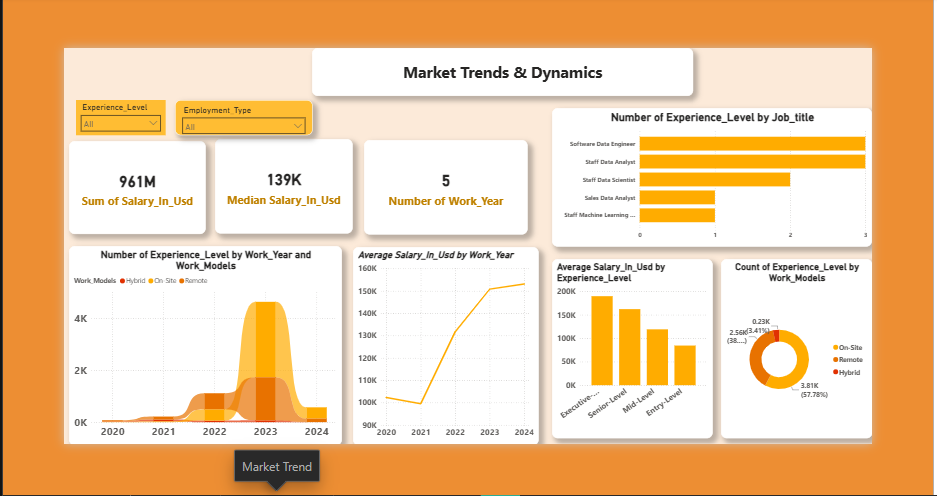

The page's visual inventory and layout, read from the dashboard file:
{"tool":"powerbi","page":{"name":"Market Trend","canvas":[1650,810],"ordinal":1},"visuals":[{"type":"lineChart","title":"Average Salary_In_Usd by Work_Year","fields":{"Category":["data_science_salaries.Work_Year"],"Y":["Avg(data_science_salaries.Salary_In_Usd)"]},"box":[589.7,405.2,379.3,405.2],"z":0},{"type":"clusteredColumnChart","fields":{"Category":["data_science_salaries.Experience_Level"],"Y":["Avg(data_science_salaries.Salary_In_Usd)"]},"box":[996.6,431,327.6,365.5],"z":1000},{"type":"donutChart","fields":{"Category":["data_science_salaries.Work_Models"],"Y":["CountNonNull(data_science_salaries.Experience_Level)"]},"box":[1341.4,431,308.6,365.5],"z":2000},{"type":"card","fields":{"Values":["Sum(data_science_salaries.Salary_In_Usd)"]},"box":[10.3,189.7,279.3,189.7],"z":3000},{"type":"clusteredBarChart","fields":{"Category":["data_science_salaries.Job_title"],"Y":["CountNonNull(data_science_salaries.Experience_Level)"]},"box":[996.6,122.4,653.4,282.8],"z":4000},{"type":"ribbonChart","fields":{"Category":["data_science_salaries.Work_Year"],"Y":["CountNonNull(data_science_salaries.Experience_Level)"],"Series":["data_science_salaries.Work_Models"]},"box":[10.3,403.4,556.9,406.9],"z":5000},{"type":"card","fields":{"Values":["Median(data_science_salaries.Salary_In_Usd)"]},"box":[308.6,186.2,281,193.1],"z":6000},{"type":"card","fields":{"Values":["Count(data_science_salaries.Work_Year)"]},"box":[612.1,187.9,334.5,193.1],"z":7000},{"type":"slicer","fields":{"Values":["data_science_salaries.Experience_Level"]},"box":[24.1,105.2,182.8,72.4],"z":8000},{"type":"slicer","fields":{"Values":["data_science_salaries.Employment_Type"]},"box":[225.9,105.2,281,72.4],"z":9000},{"type":"textbox","box":[506.9,0,777.6,98.3],"z":10000}]}

Visuals, with their boxes on the page's 1650x810 design canvas (x1, y1, x2, y2). These are canvas units, not pixel positions in the 937x496 screenshot, which may show the page scaled, cropped or inside an application window:
"Average Salary_In_Usd by Work_Year" lineChart: {"x1": 590, "y1": 405, "x2": 969, "y2": 810}
clusteredColumnChart - data_science_salaries.Experience_Level x Avg(data_science_salaries.Salary_In_Usd): {"x1": 997, "y1": 431, "x2": 1324, "y2": 796}
donutChart - data_science_salaries.Work_Models x CountNonNull(data_science_salaries.Experience_Level): {"x1": 1341, "y1": 431, "x2": 1650, "y2": 796}
card - Sum(data_science_salaries.Salary_In_Usd): {"x1": 10, "y1": 190, "x2": 290, "y2": 379}
clusteredBarChart - data_science_salaries.Job_title x CountNonNull(data_science_salaries.Experience_Level): {"x1": 997, "y1": 122, "x2": 1650, "y2": 405}
ribbonChart - data_science_salaries.Work_Year x CountNonNull(data_science_salaries.Experience_Level): {"x1": 10, "y1": 403, "x2": 567, "y2": 810}
card - Median(data_science_salaries.Salary_In_Usd): {"x1": 309, "y1": 186, "x2": 590, "y2": 379}
card - Count(data_science_salaries.Work_Year): {"x1": 612, "y1": 188, "x2": 947, "y2": 381}
slicer - data_science_salaries.Experience_Level: {"x1": 24, "y1": 105, "x2": 207, "y2": 178}
slicer - data_science_salaries.Employment_Type: {"x1": 226, "y1": 105, "x2": 507, "y2": 178}
textbox: {"x1": 507, "y1": 0, "x2": 1284, "y2": 98}
